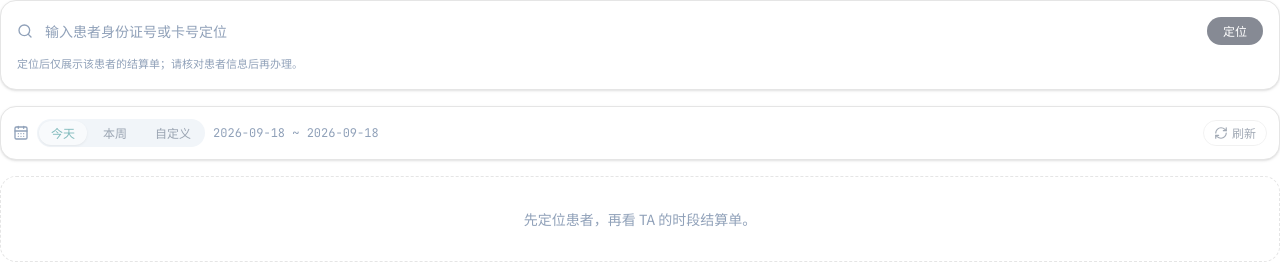
Test case: SettlementTimeBrowser（患者定位 + 时间浏览） › 列表接口失败展示内联错误
Type "110103194203280937" into the field labelled "患者身份证号或卡号". click: (620, 31)
box: [41,17,1199,45]
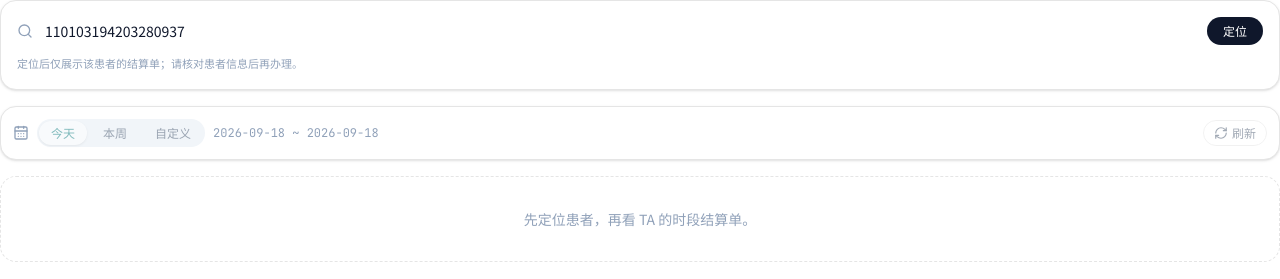
Click the button "定位". click: (1235, 31)
box: [1207,17,1263,45]
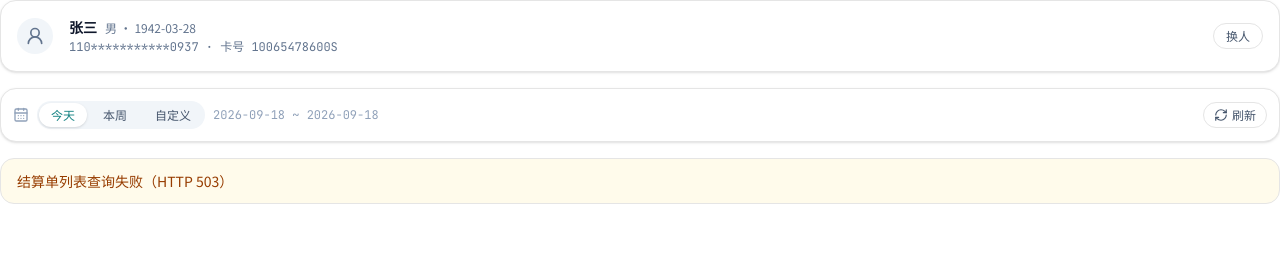
Expected: the element with test id "patient-card" is shown, [0,0,1279,72]
Expected: the message shows "结算单列表查询失败", [17,171,233,191]
